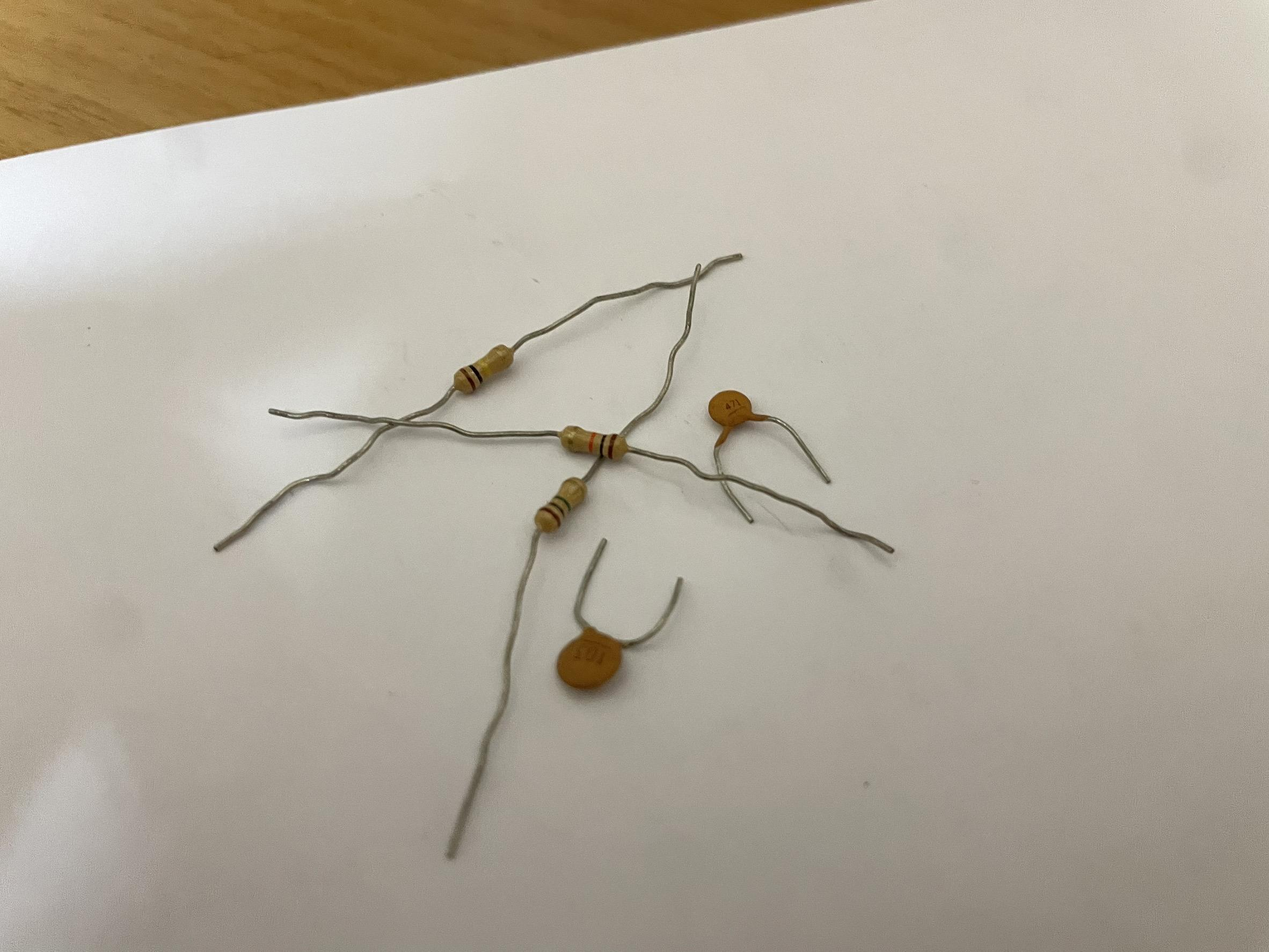resistor: (451, 334, 517, 394), (531, 478, 589, 535), (557, 421, 636, 462)
